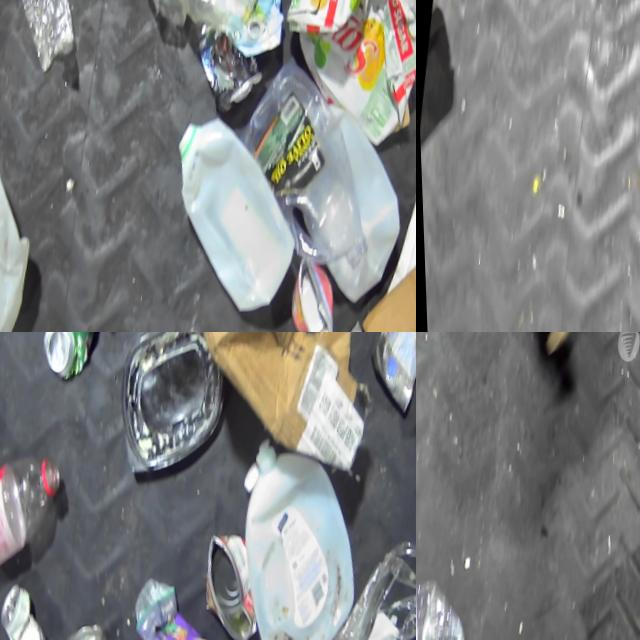can: (360, 332, 416, 415), (34, 332, 104, 380), (0, 581, 52, 640), (56, 616, 126, 640)
milk_jug: (216, 428, 377, 640), (159, 115, 304, 306), (0, 130, 45, 332)
plastic_bottle: (0, 439, 69, 585), (120, 571, 250, 640), (2, 0, 88, 74)
